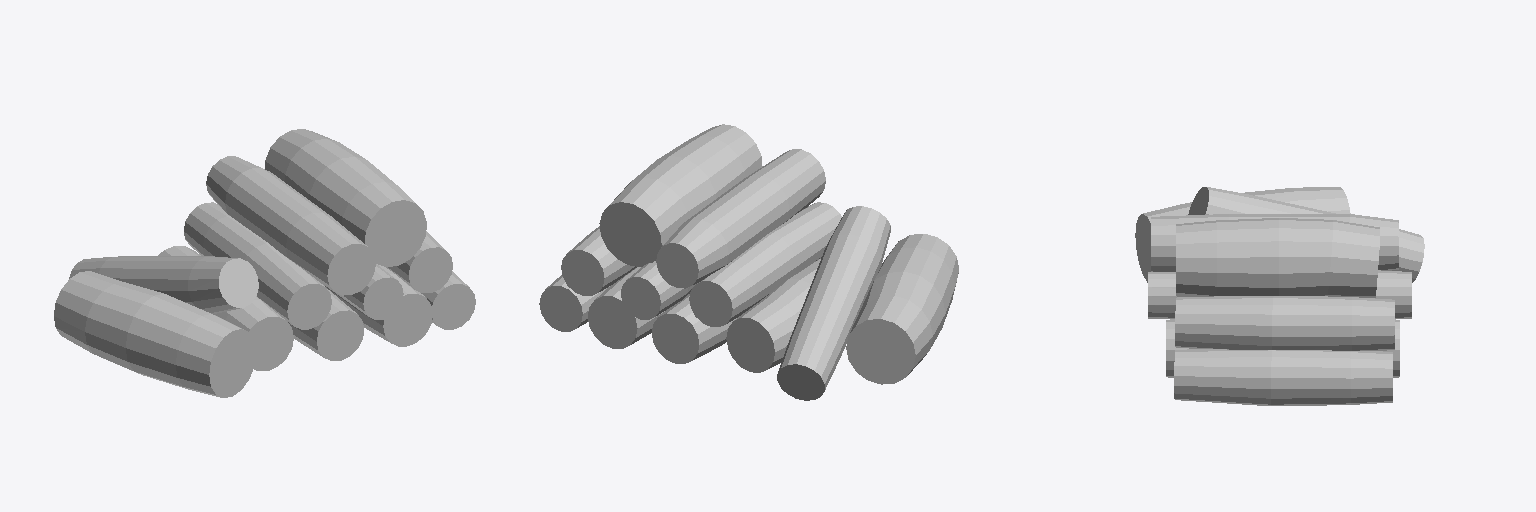
File: Timber_Stack_2.obj
The picture shows the model from 3 angles: view 1: azimuth 30°, elevation 25°; view 2: azimuth 150°, elevation 25°; view 3: azimuth 270°, elevation 25°; orthographic projection.
Visible parts, largest first — view 1: Cylinder.018, Cylinder.014, Cylinder.015, Cylinder.013, Cylinder.017, Cylinder.009, Cylinder.011, Cylinder.007_Cylinder.008, Cylinder.010, Cylinder.008_Cylinder.007, Cylinder.012; view 2: Cylinder.014, Cylinder.018, Cylinder.017, Cylinder.015, Cylinder.013, Cylinder.009, Cylinder.011, Cylinder.010, Cylinder.007_Cylinder.008, Cylinder.012, Cylinder.008_Cylinder.007; view 3: Cylinder.014, Cylinder.008_Cylinder.007, Cylinder.010, Cylinder.015, Cylinder.017, Cylinder.018, Cylinder.012, Cylinder.007_Cylinder.008.
Part boxes in pixels (bbox=[...]): Cylinder.018: bbox=[54, 271, 256, 397]; Cylinder.014: bbox=[265, 129, 426, 266]; Cylinder.015: bbox=[206, 156, 375, 295]; Cylinder.013: bbox=[184, 202, 331, 329]; Cylinder.017: bbox=[69, 256, 258, 313]; Cylinder.009: bbox=[158, 246, 293, 370]; Cylinder.011: bbox=[288, 289, 363, 360]; Cylinder.007_Cylinder.008: bbox=[325, 264, 432, 346]; Cylinder.010: bbox=[386, 231, 452, 292]; Cylinder.008_Cylinder.007: bbox=[421, 271, 475, 329]; Cylinder.012: bbox=[330, 264, 403, 319]; Cylinder.014: bbox=[599, 124, 762, 266]; Cylinder.018: bbox=[846, 234, 958, 384]; Cylinder.017: bbox=[777, 206, 890, 400]; Cylinder.015: bbox=[656, 149, 825, 288]; Cylinder.013: bbox=[689, 202, 841, 326]; Cylinder.009: bbox=[726, 258, 820, 372]; Cylinder.011: bbox=[652, 294, 736, 363]; Cylinder.010: bbox=[561, 226, 636, 295]; Cylinder.007_Cylinder.008: bbox=[588, 267, 670, 348]; Cylinder.012: bbox=[621, 261, 695, 319]; Cylinder.008_Cylinder.007: bbox=[539, 275, 609, 331]; Cylinder.014: bbox=[1176, 218, 1379, 297]; Cylinder.008_Cylinder.007: bbox=[1174, 349, 1392, 405]; Cylinder.010: bbox=[1175, 296, 1394, 350]; Cylinder.015: bbox=[1151, 214, 1398, 271]; Cylinder.017: bbox=[1188, 187, 1424, 282]; Cylinder.018: bbox=[1135, 187, 1350, 282]; Cylinder.012: bbox=[1148, 270, 1411, 318]; Cylinder.007_Cylinder.008: bbox=[1166, 319, 1399, 377].
Size of the model in its own units: 1.35 by 0.5683 by 0.9664.